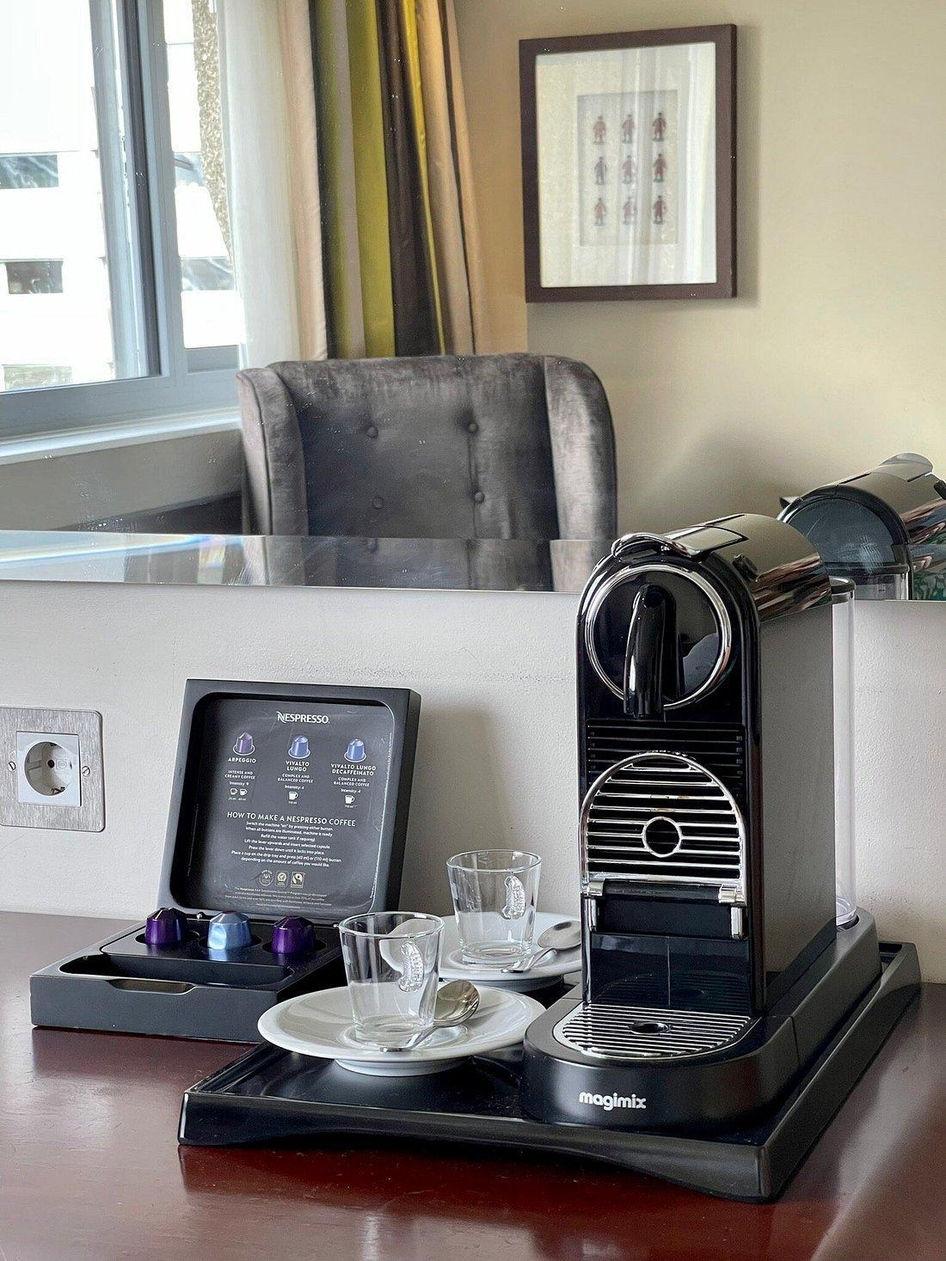chair: (241, 346, 615, 589)
organized table: (0, 531, 946, 1261)
